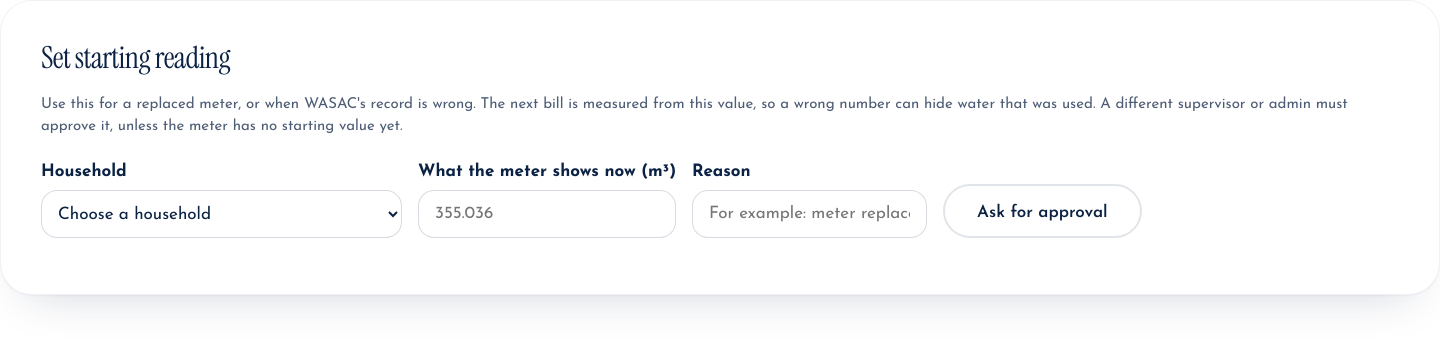
MeterCorrection › when a household is chosen, should show what is on record now
Select "DEMO Household 001 · DEMO-MTR-001" in the dropdown labelled "Household" at (222, 214), box [41,190,402,238]
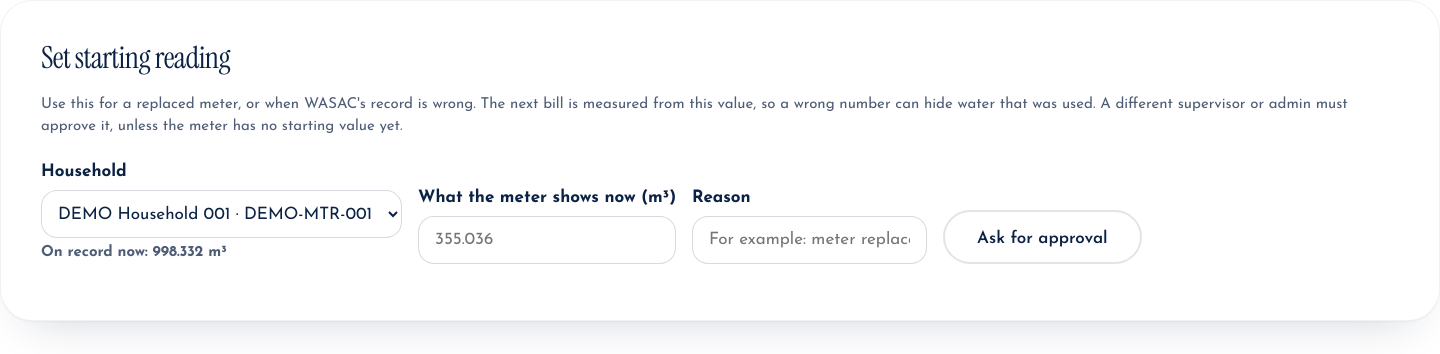
expect the text "On record now: 998.332 m³" is shown: met, box [41,245,227,260]
